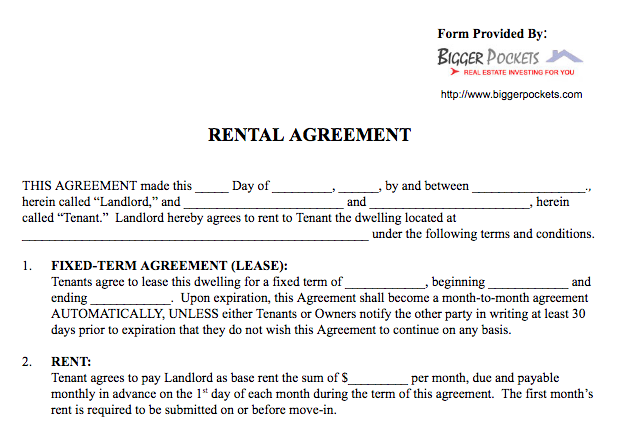textline: (20, 224, 371, 243), (472, 169, 589, 194), (268, 176, 381, 195), (488, 272, 570, 291), (89, 288, 173, 306), (343, 273, 426, 291), (348, 368, 408, 387), (269, 181, 332, 193), (339, 181, 379, 193), (194, 183, 229, 194)
